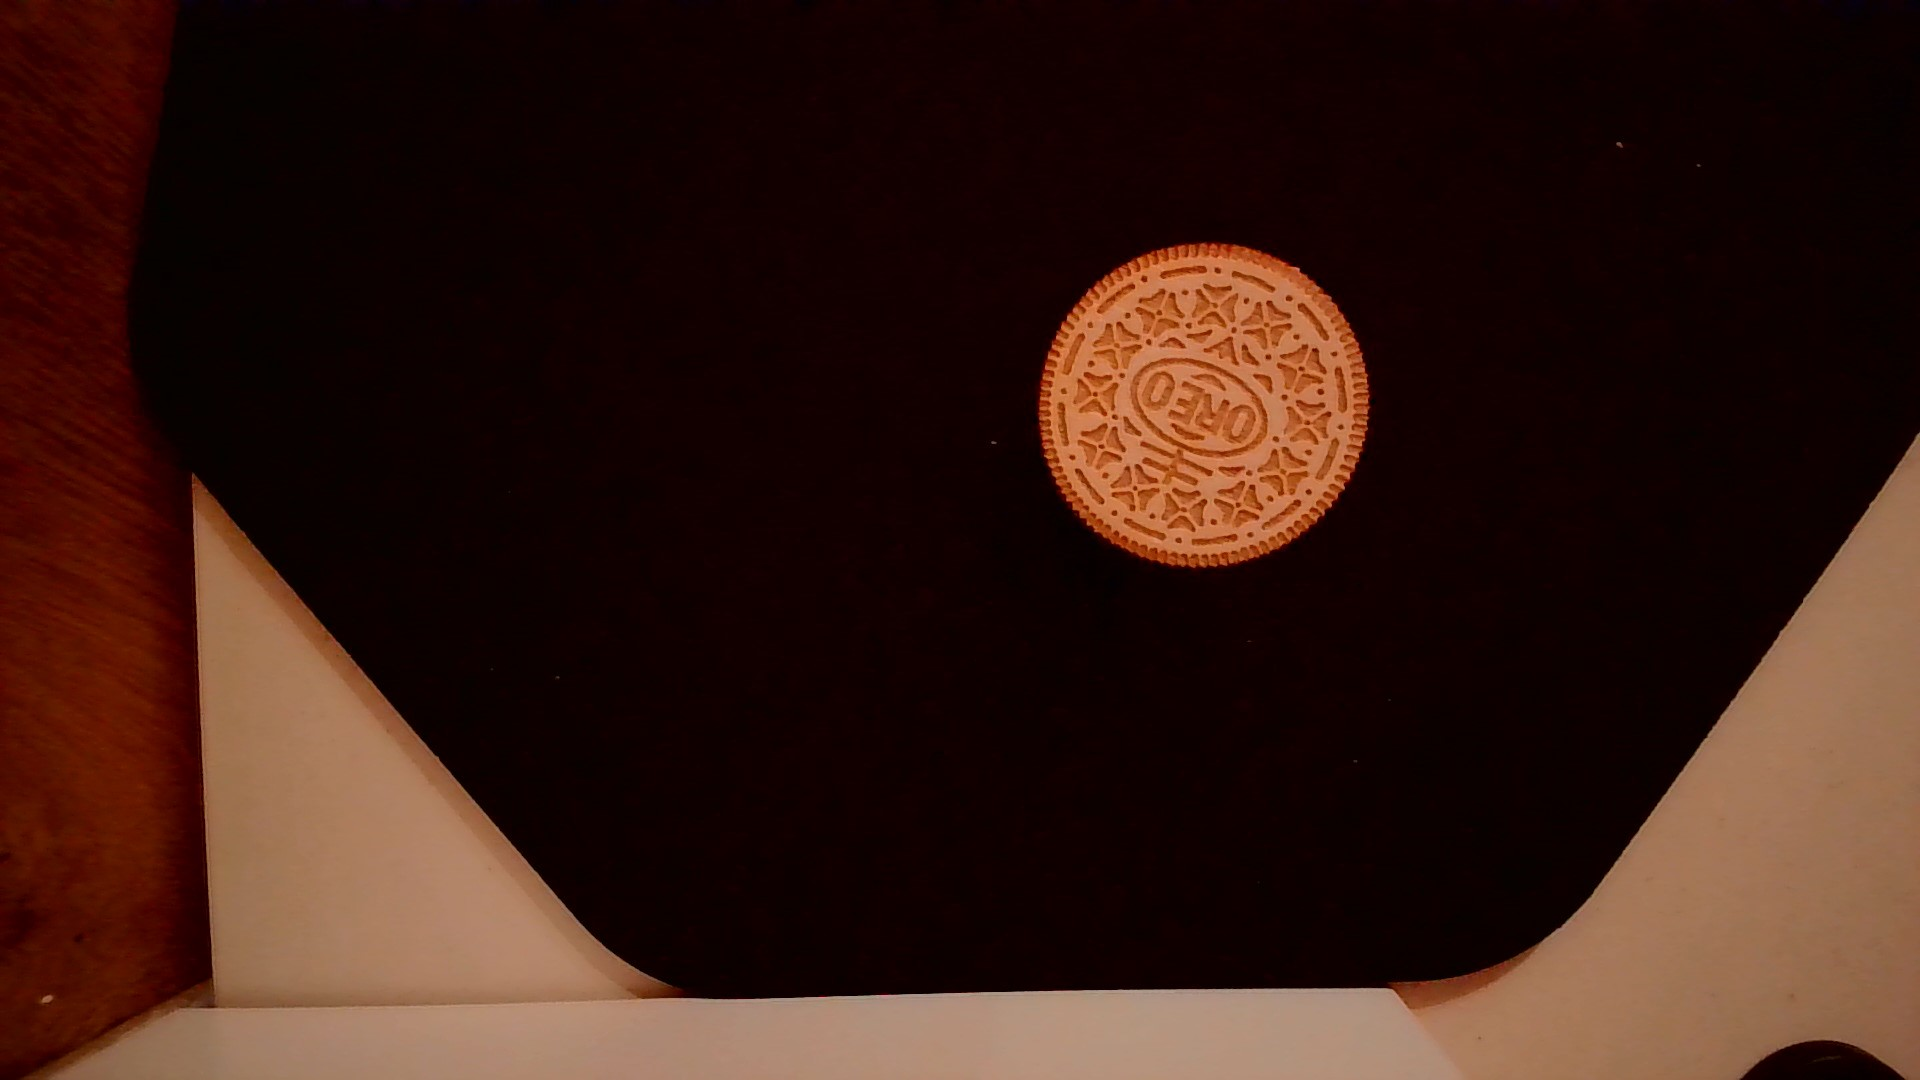Oréo: (1027, 231, 1378, 574)
